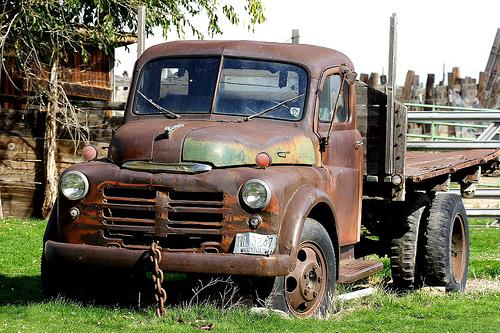truck: (41, 38, 500, 322)
